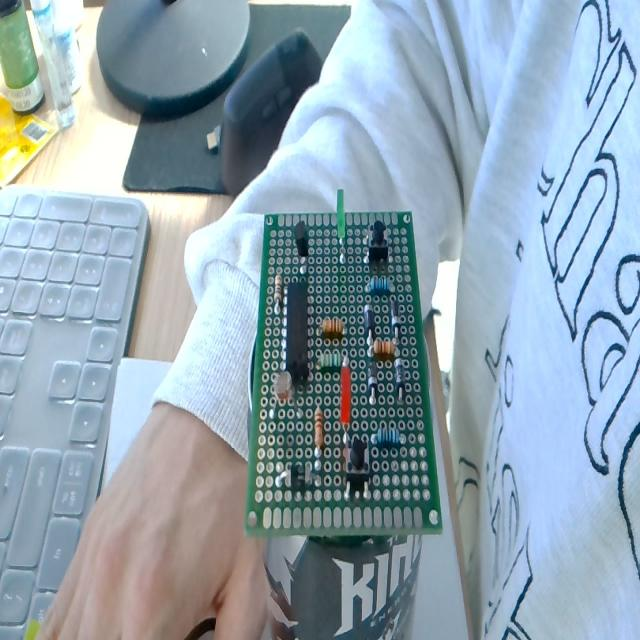IC: (285, 285, 309, 386)
cds: (268, 370, 303, 430)
diode: (282, 462, 314, 490), (394, 359, 407, 400), (363, 303, 375, 345), (367, 362, 379, 403), (390, 296, 401, 338)
led: (338, 364, 354, 441), (335, 189, 347, 264)
resistor: (310, 406, 326, 469), (316, 346, 346, 372), (373, 426, 401, 447), (367, 273, 392, 295), (372, 338, 396, 360), (320, 314, 344, 335), (273, 269, 284, 312)
switch: (342, 438, 371, 494), (364, 220, 390, 268)
transistor: (292, 218, 313, 273)
